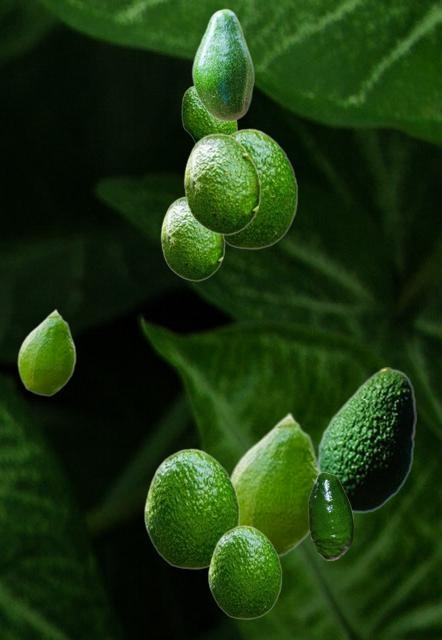avocado: (317, 367, 415, 512), (228, 411, 317, 556), (144, 448, 239, 568), (225, 128, 297, 248), (183, 133, 260, 234), (191, 8, 253, 121), (208, 525, 281, 618), (160, 196, 224, 280), (17, 308, 75, 395), (308, 472, 353, 559), (181, 85, 236, 143)
